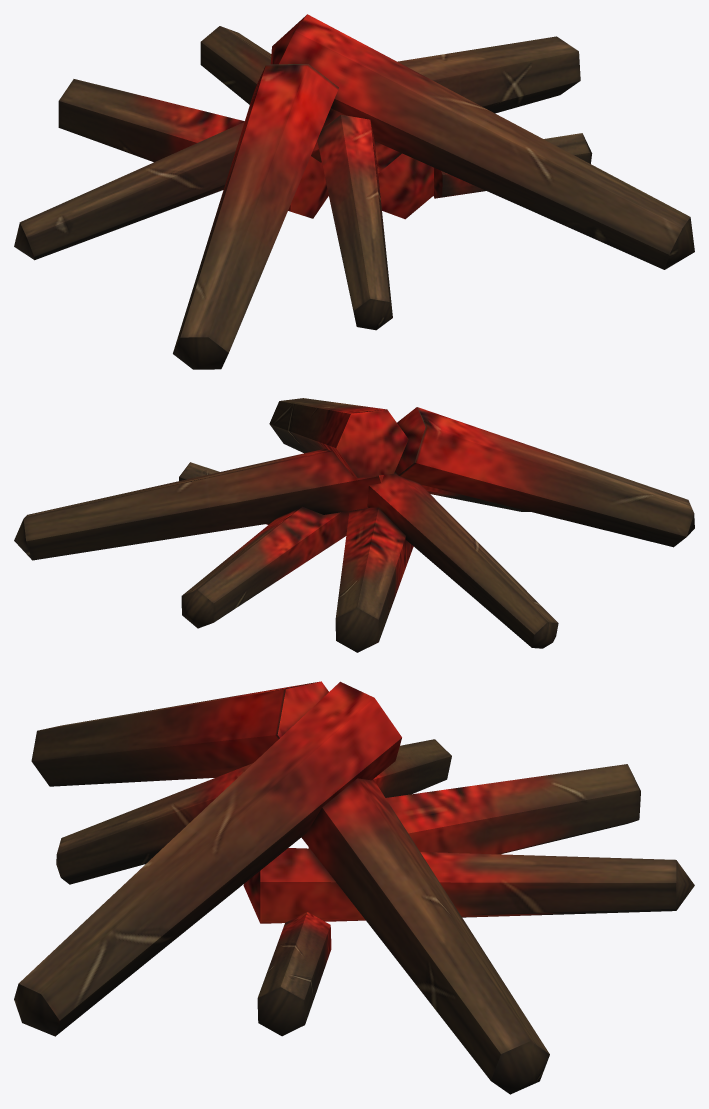
The model's file is modelBonfire.fbx.
3 views of the same model, one above another, from view 1: azimuth 30°, elevation 25°; view 2: azimuth 150°, elevation 25°; view 3: azimuth 270°, elevation 25° (orthographic). The views are drawn at different scales.
Visible parts, largest first — view 1: modelBonfire; view 2: modelBonfire; view 3: modelBonfire.
Part boxes in pixels (left/top/right/bottom): modelBonfire: left=14, top=14, right=694, bottom=369; modelBonfire: left=14, top=398, right=694, bottom=652; modelBonfire: left=14, top=681, right=694, bottom=1094.
Bounding box in the file's own units: 6 × 1.94 × 5.28.
